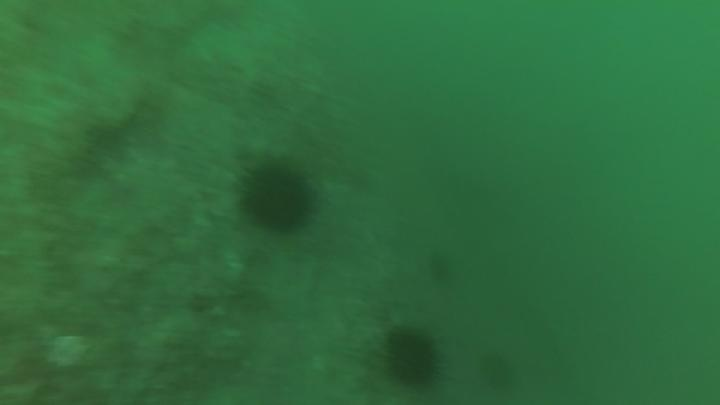echinus: (234, 157, 320, 236), (379, 323, 446, 391), (475, 348, 519, 395), (425, 249, 457, 286)
